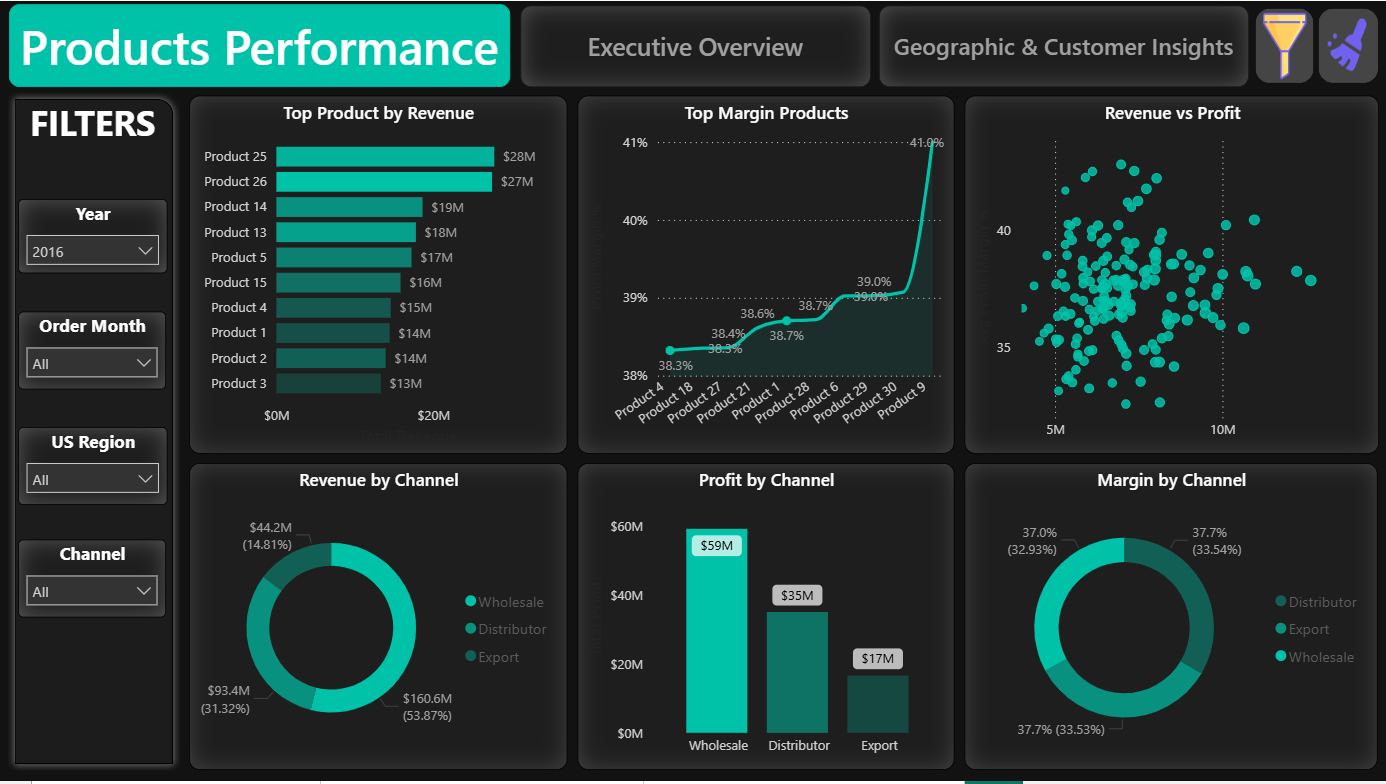

What the dashboard file says about the page in this screenshot:
{"tool":"powerbi","page":{"name":"Product & Channel Performance","canvas":[1280,720],"ordinal":1},"visuals":[{"type":"barChart","title":"Top Product by Revenue","fields":{"Category":["Sales_data.product_name"],"Y":["Measures_.Total Revenue"]},"box":[174.6,87.3,349.3,330.9],"z":0},{"type":"scatterChart","title":"Revenue vs Profit","fields":{"X":["Customer Summary.Total Revenue"],"Y":["Customer Summary.Avg Profit Margin %"],"Size":["Sum(Customer Summary.Order Count)"]},"box":[890,87.3,383,330.9],"z":1000},{"type":"lineChart","title":"Top Margin Products","fields":{"Category":["Sales_data.product_name"],"Y":["Measures_.Profit Margin %"]},"box":[533.1,87.3,347.7,330.9],"z":2000},{"type":"donutChart","title":"Revenue by Channel","fields":{"Category":["Sales_data.channel"],"Y":["Measures_.Total Revenue"]},"box":[174.6,425.9,349.3,283.4],"z":3000},{"type":"lineStackedColumnComboChart","title":"Profit by Channel","fields":{"Category":["Sales_data.channel"],"Y":["Measures_.Total Profit"]},"box":[533.1,425.9,347.7,283.4],"z":4000},{"type":"donutChart","title":"Margin by Channel","fields":{"Category":["Sales_data.channel"],"Y":["Measures_.Profit Margin %"]},"box":[890,425.9,381.4,283.4],"z":5000},{"type":"actionButton","box":[1216.4,7.7,55.1,68.9],"z":6000,"group":"g2"},{"type":"actionButton","box":[1158.2,7.7,53.6,68.9],"z":7000,"group":"g2"},{"type":"shape","box":[6.1,82.7,162.4,628.1],"z":7000},{"type":"group","id":"g1","title":"Group 1","box":[16.9,182.3,137.9,386],"z":8000},{"type":"textbox","box":[16.9,84.3,137.9,72],"z":9000},{"type":"group","id":"g2","title":"Group 2","box":[7.7,3.1,1263.8,76.6],"z":10000},{"type":"actionButton","box":[479.5,4.6,323.2,75.1],"z":10000,"group":"g2"},{"type":"actionButton","box":[7.7,3.1,462.6,76.6],"z":11000,"group":"g2"},{"type":"actionButton","box":[810.4,4.6,341.6,75.1],"z":12000,"group":"g2"},{"type":"slicer","title":"Year","fields":{"Values":["Sales_data.year"]},"box":[16.9,182.3,137.9,68.9],"z":21500,"group":"g1"},{"type":"slicer","title":"Channel","fields":{"Values":["Sales_data.channel"]},"box":[16.9,496.3,136.4,72],"z":22000,"group":"g1"},{"type":"slicer","title":"Order Month","fields":{"Values":["Sales_data.order_month_name"]},"box":[16.9,286.5,136.4,72],"z":22250,"group":"g1"},{"type":"slicer","title":"US Region","fields":{"Values":["Sales_data.us_region"]},"box":[16.9,392.2,137.9,72],"z":22500,"group":"g1"}]}

Visuals, with their boxes in screenshot pixels (x1, y1, x2, y2), scaled from the page's 1280x720 canvas onto the 1386x784 screenshot:
"Top Product by Revenue" barChart: <box>189,95,567,455</box>
"Revenue vs Profit" scatterChart: <box>964,95,1378,455</box>
"Top Margin Products" lineChart: <box>577,95,954,455</box>
"Revenue by Channel" donutChart: <box>189,464,567,772</box>
"Profit by Channel" lineStackedColumnComboChart: <box>577,464,954,772</box>
"Margin by Channel" donutChart: <box>964,464,1377,772</box>
actionButton: <box>1317,8,1377,83</box>
actionButton: <box>1254,8,1312,83</box>
shape: <box>7,90,182,774</box>
"Group 1" group: <box>18,199,168,619</box>
textbox: <box>18,92,168,170</box>
"Group 2" group: <box>8,3,1377,87</box>
actionButton: <box>519,5,869,87</box>
actionButton: <box>8,3,509,87</box>
actionButton: <box>878,5,1247,87</box>
"Year" slicer: <box>18,199,168,274</box>
"Channel" slicer: <box>18,540,166,619</box>
"Order Month" slicer: <box>18,312,166,390</box>
"US Region" slicer: <box>18,427,168,505</box>
